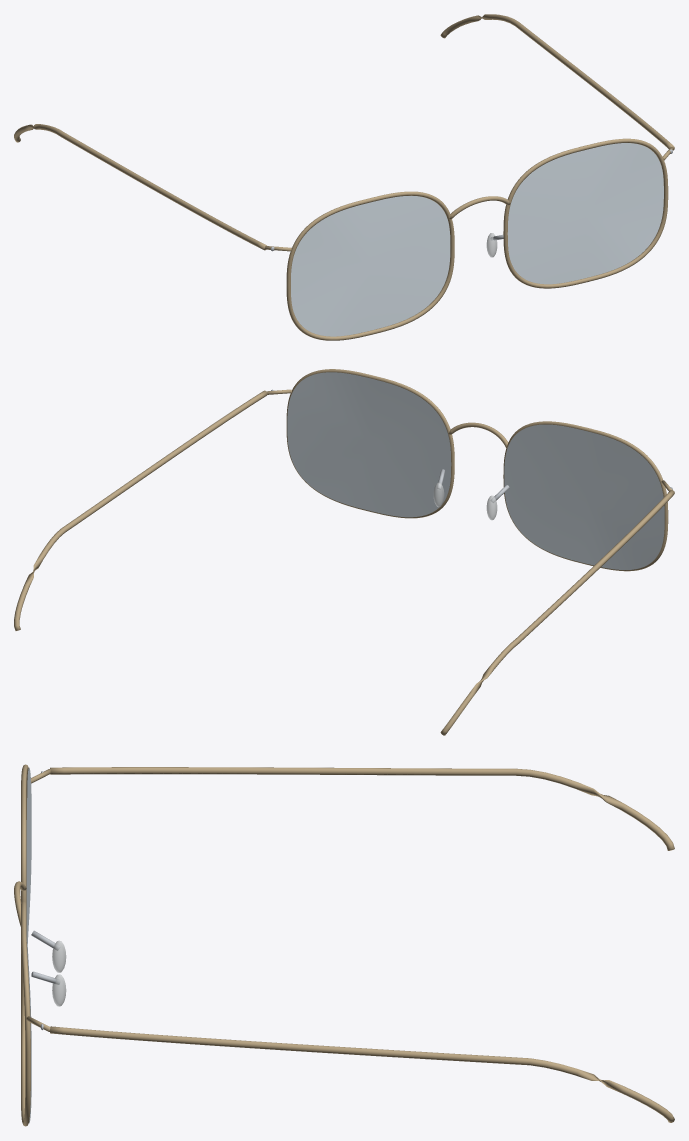
The model's file is tim-58-v1.glb.
3 views of the same model, one above another, from view 1: azimuth 30°, elevation 25°; view 2: azimuth 150°, elevation 25°; view 3: azimuth 270°, elevation 25° (orthographic). The views are drawn at different scales.
Parts seen in each view (by area): view 1: lens_right, lens_left, rim_right, rim_left, temple_right, temple_left; view 2: lens_left, lens_right, temple_left, temple_right, rim_left, rim_right; view 3: temple_right, temple_left, rim_left, lens_right, rim_right.
Boxes of the visible parts, x1,y1,x2,y2 form: lens_right: (291, 195, 450, 336); lens_left: (507, 143, 663, 284); rim_right: (286, 191, 454, 340); rim_left: (503, 138, 668, 288); temple_right: (14, 124, 266, 250); temple_left: (440, 14, 674, 150); lens_left: (287, 372, 451, 517); lens_right: (504, 424, 664, 569); temple_left: (14, 390, 267, 630); temple_right: (440, 490, 674, 735); rim_left: (286, 369, 454, 518); rim_right: (503, 421, 668, 571); temple_right: (50, 767, 674, 850); temple_left: (50, 1026, 674, 1122); rim_left: (21, 901, 30, 1126); lens_right: (26, 767, 31, 943); rim_right: (21, 764, 28, 903).
Size of the model in its own units: 0.1557 by 0.0444 by 0.149.
